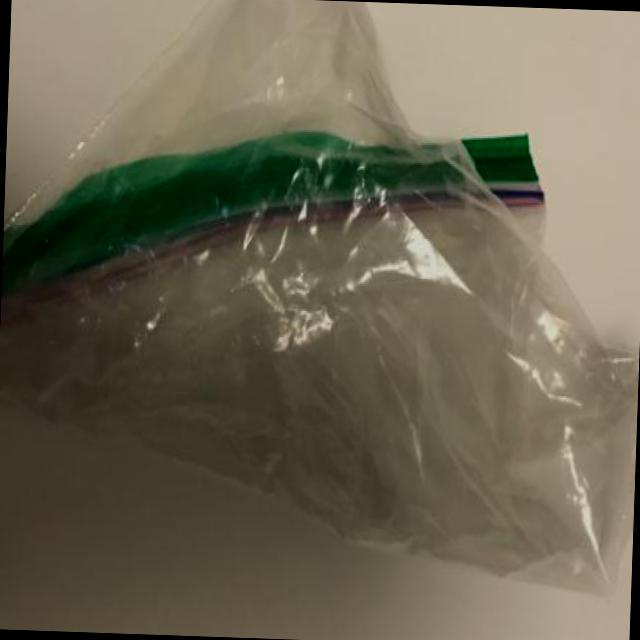nhua: (0, 0, 639, 591)
